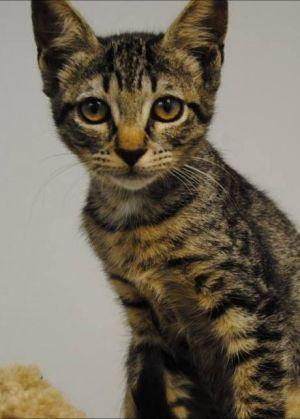bengal: (26, 1, 239, 195)
